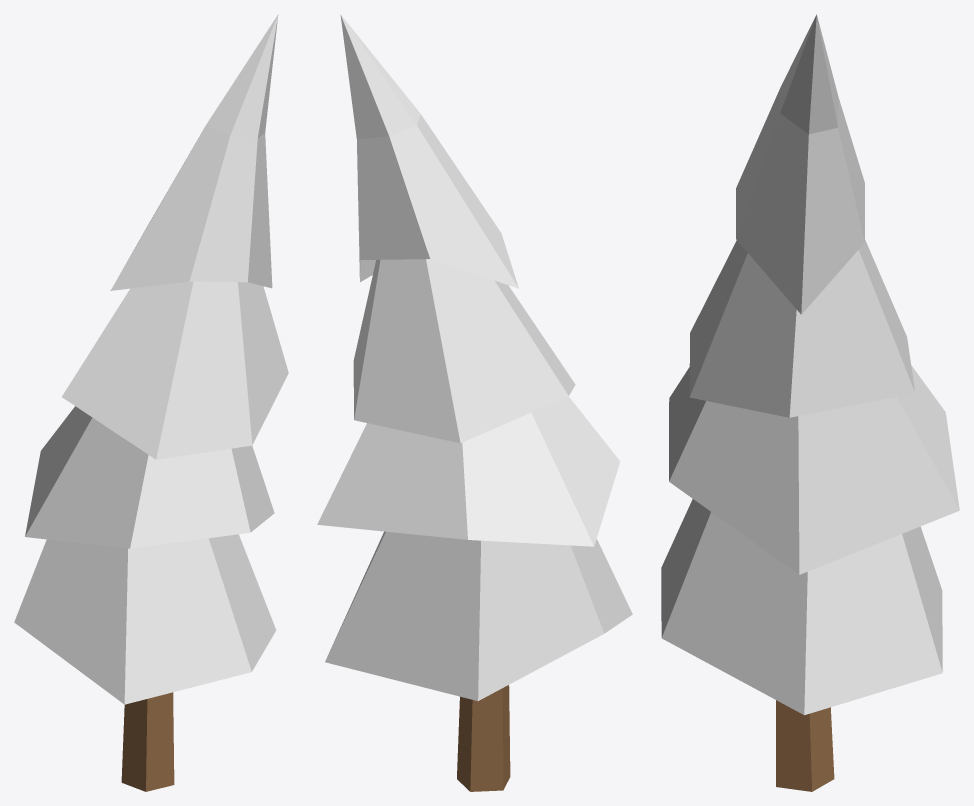
Rendered from Pine_Tree_OneSided_m_Snow_11.fbx.
3 views of the same model, side by side, from view 1: azimuth 30°, elevation 25°; view 2: azimuth 150°, elevation 25°; view 3: azimuth 270°, elevation 25° (orthographic). The views are drawn at different scales.
Parts seen in each view (by area): view 1: Pine_Tree_OneSided_m_Snow_11; view 2: Pine_Tree_OneSided_m_Snow_11; view 3: Pine_Tree_OneSided_m_Snow_11.
Part boxes in pixels (<box>): Pine_Tree_OneSided_m_Snow_11: <box>14,14,288,791</box>; Pine_Tree_OneSided_m_Snow_11: <box>317,14,632,791</box>; Pine_Tree_OneSided_m_Snow_11: <box>661,14,959,791</box>.
Size of the model in its own units: 217 by 575 by 185.
